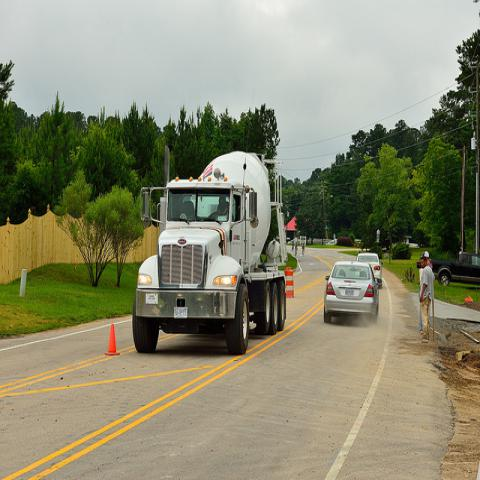car: (324, 261, 382, 327), (356, 253, 381, 277)
truck: (129, 151, 288, 357), (430, 249, 480, 289)
